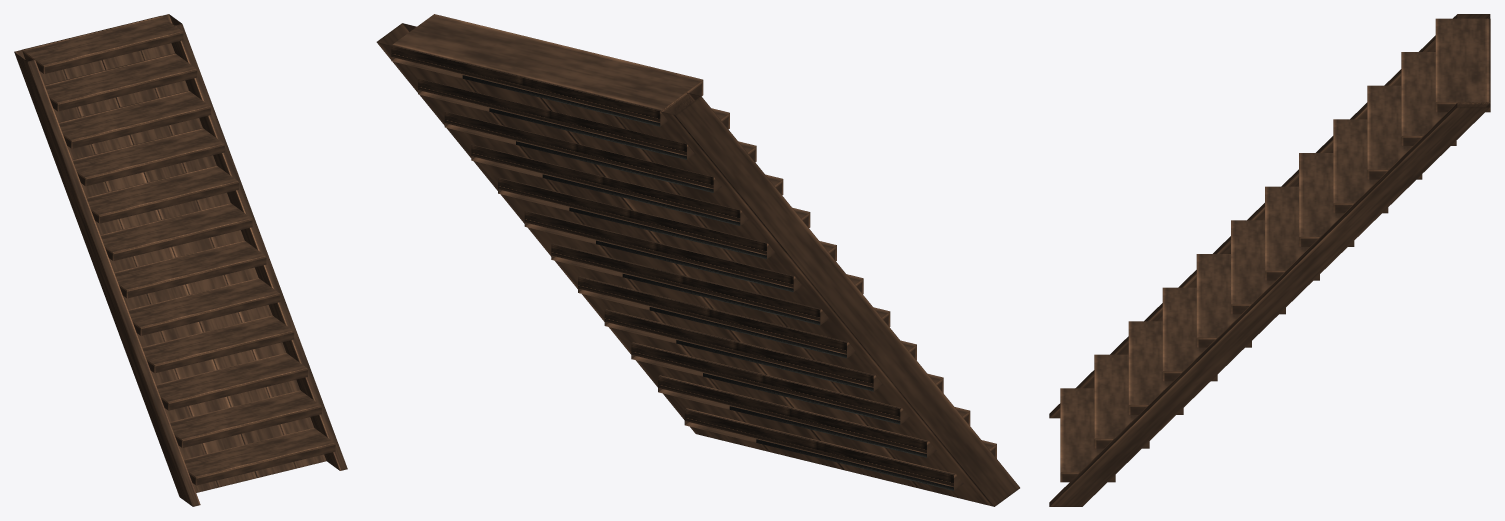
Rendered from house_stairs_4.fbx.
3 renders of one model, left to right at view 1: azimuth 30°, elevation 25°; view 2: azimuth 150°, elevation 25°; view 3: azimuth 270°, elevation 25°, orthographic. The views are drawn at different scales.
Visible parts, largest first — view 1: house_stairs_4; view 2: house_stairs_4; view 3: house_stairs_4.
Boxes of the visible parts, x1,y1,x2,y2 form: house_stairs_4: (14,14,347,506); house_stairs_4: (376,14,1019,506); house_stairs_4: (1049,14,1490,506).
Bounding box in the file's own units: 200 × 400 × 400.
